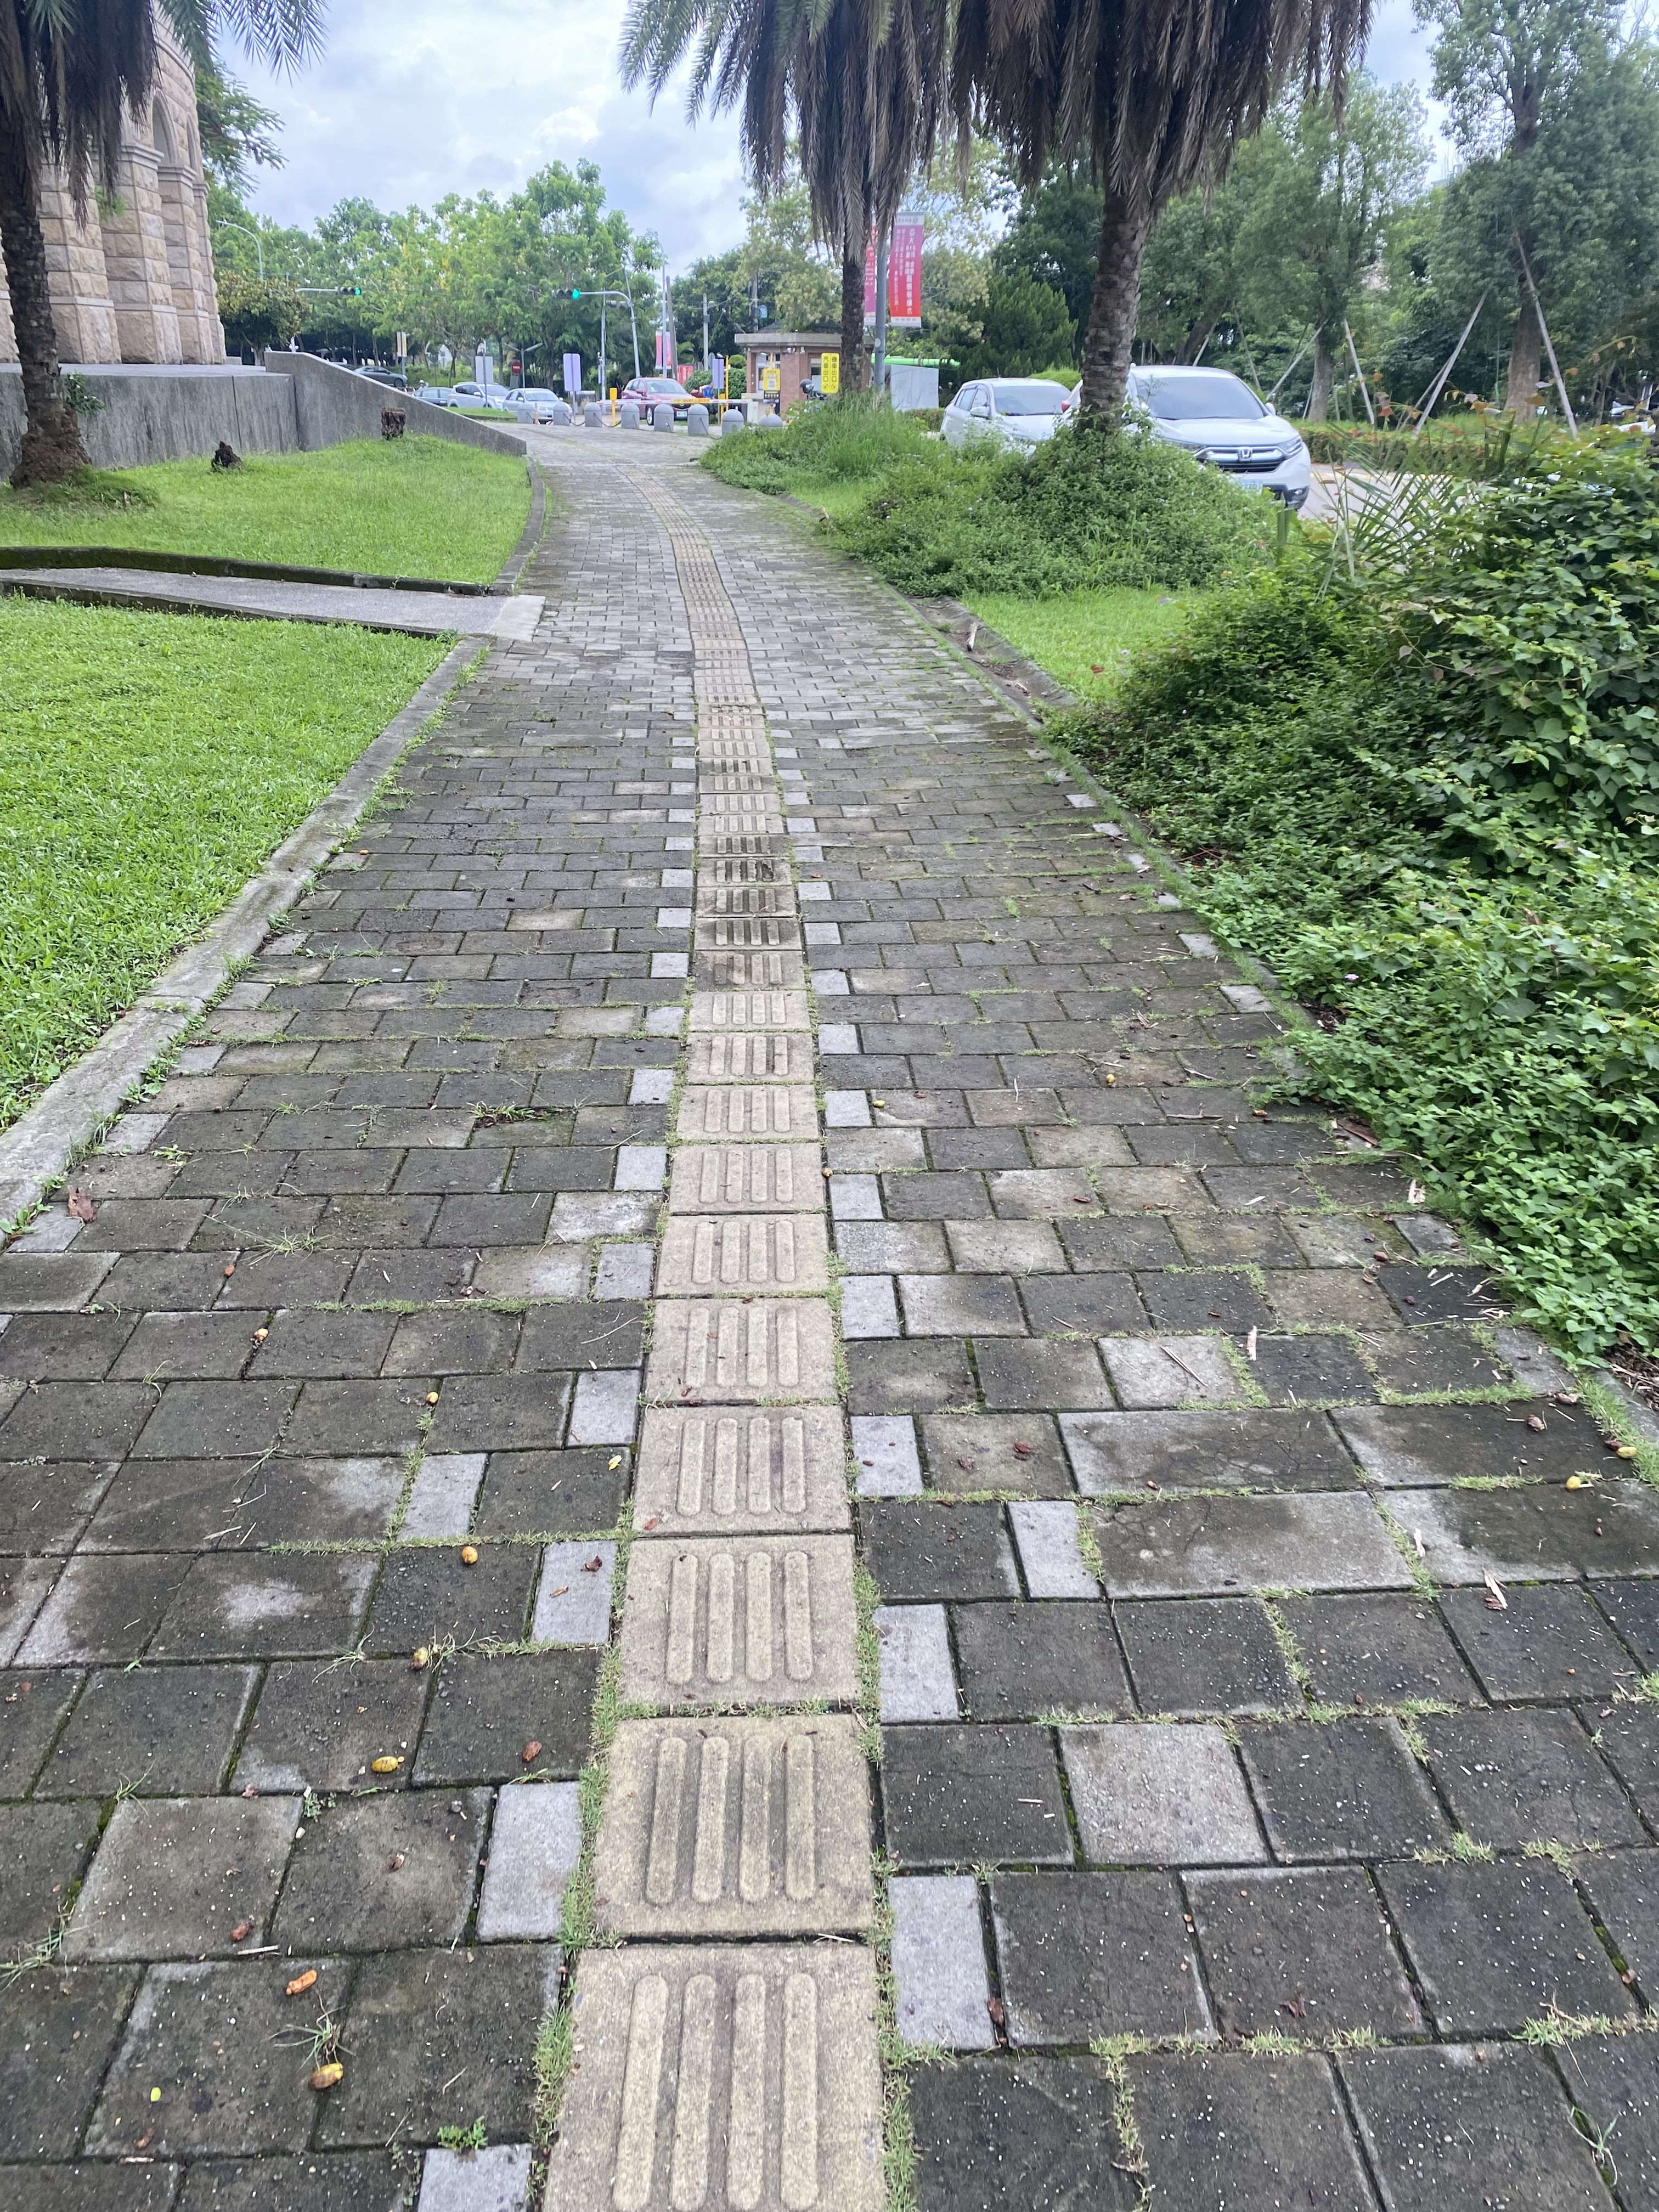0: (7, 634, 1659, 2212)
sidewalk: (476, 383, 1121, 1529)
